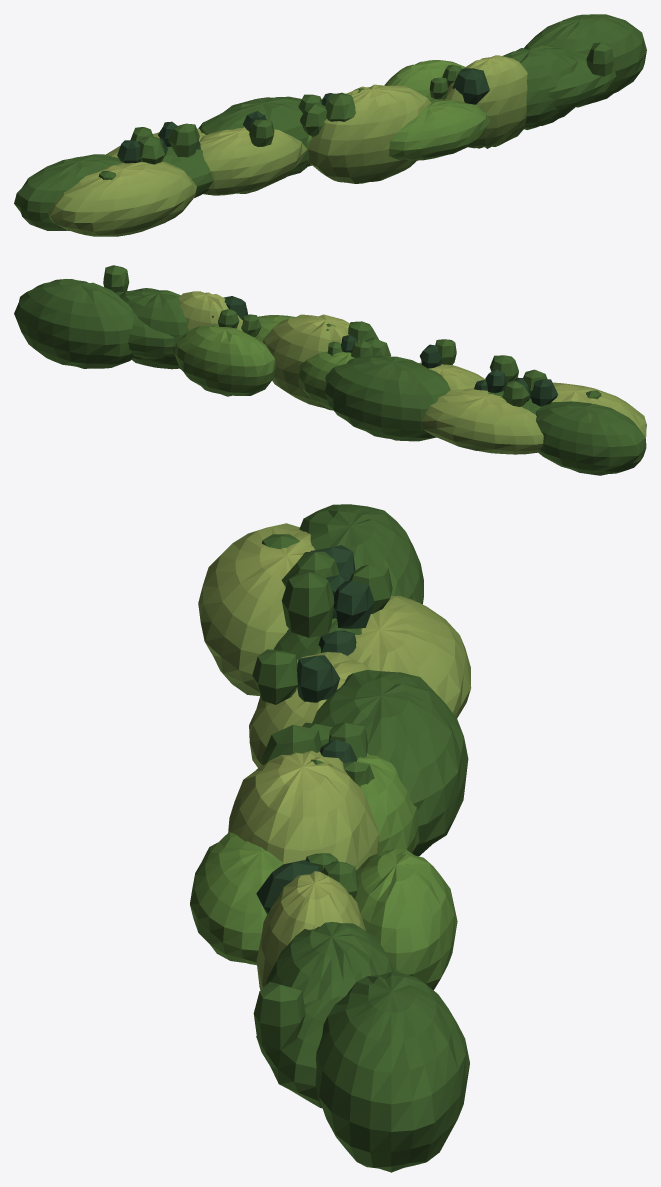
Rendered from hills.glb.
The picture shows the model from 3 angles, top to bottom: view 1: azimuth 30°, elevation 25°; view 2: azimuth 150°, elevation 25°; view 3: azimuth 270°, elevation 25°; orthographic projection. The views are drawn at different scales.
Visible parts, largest first — view 1: hills; view 2: hills; view 3: hills.
Part boxes in pixels (left/top/right/bottom): hills: left=14, top=14, right=646, bottom=236; hills: left=14, top=265, right=646, bottom=475; hills: left=190, top=504, right=471, bottom=1172.
Size of the model in its own units: 109 by 16.18 by 21.61.
